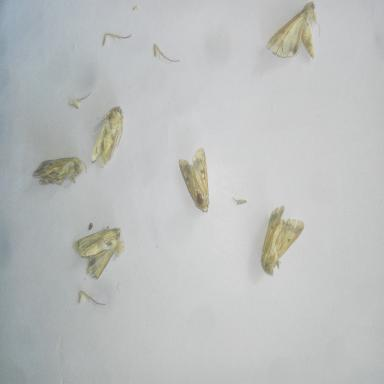abw: (258, 201, 308, 280), (264, 1, 322, 63), (70, 223, 124, 282), (175, 144, 213, 216), (87, 101, 125, 172), (30, 154, 89, 190)
